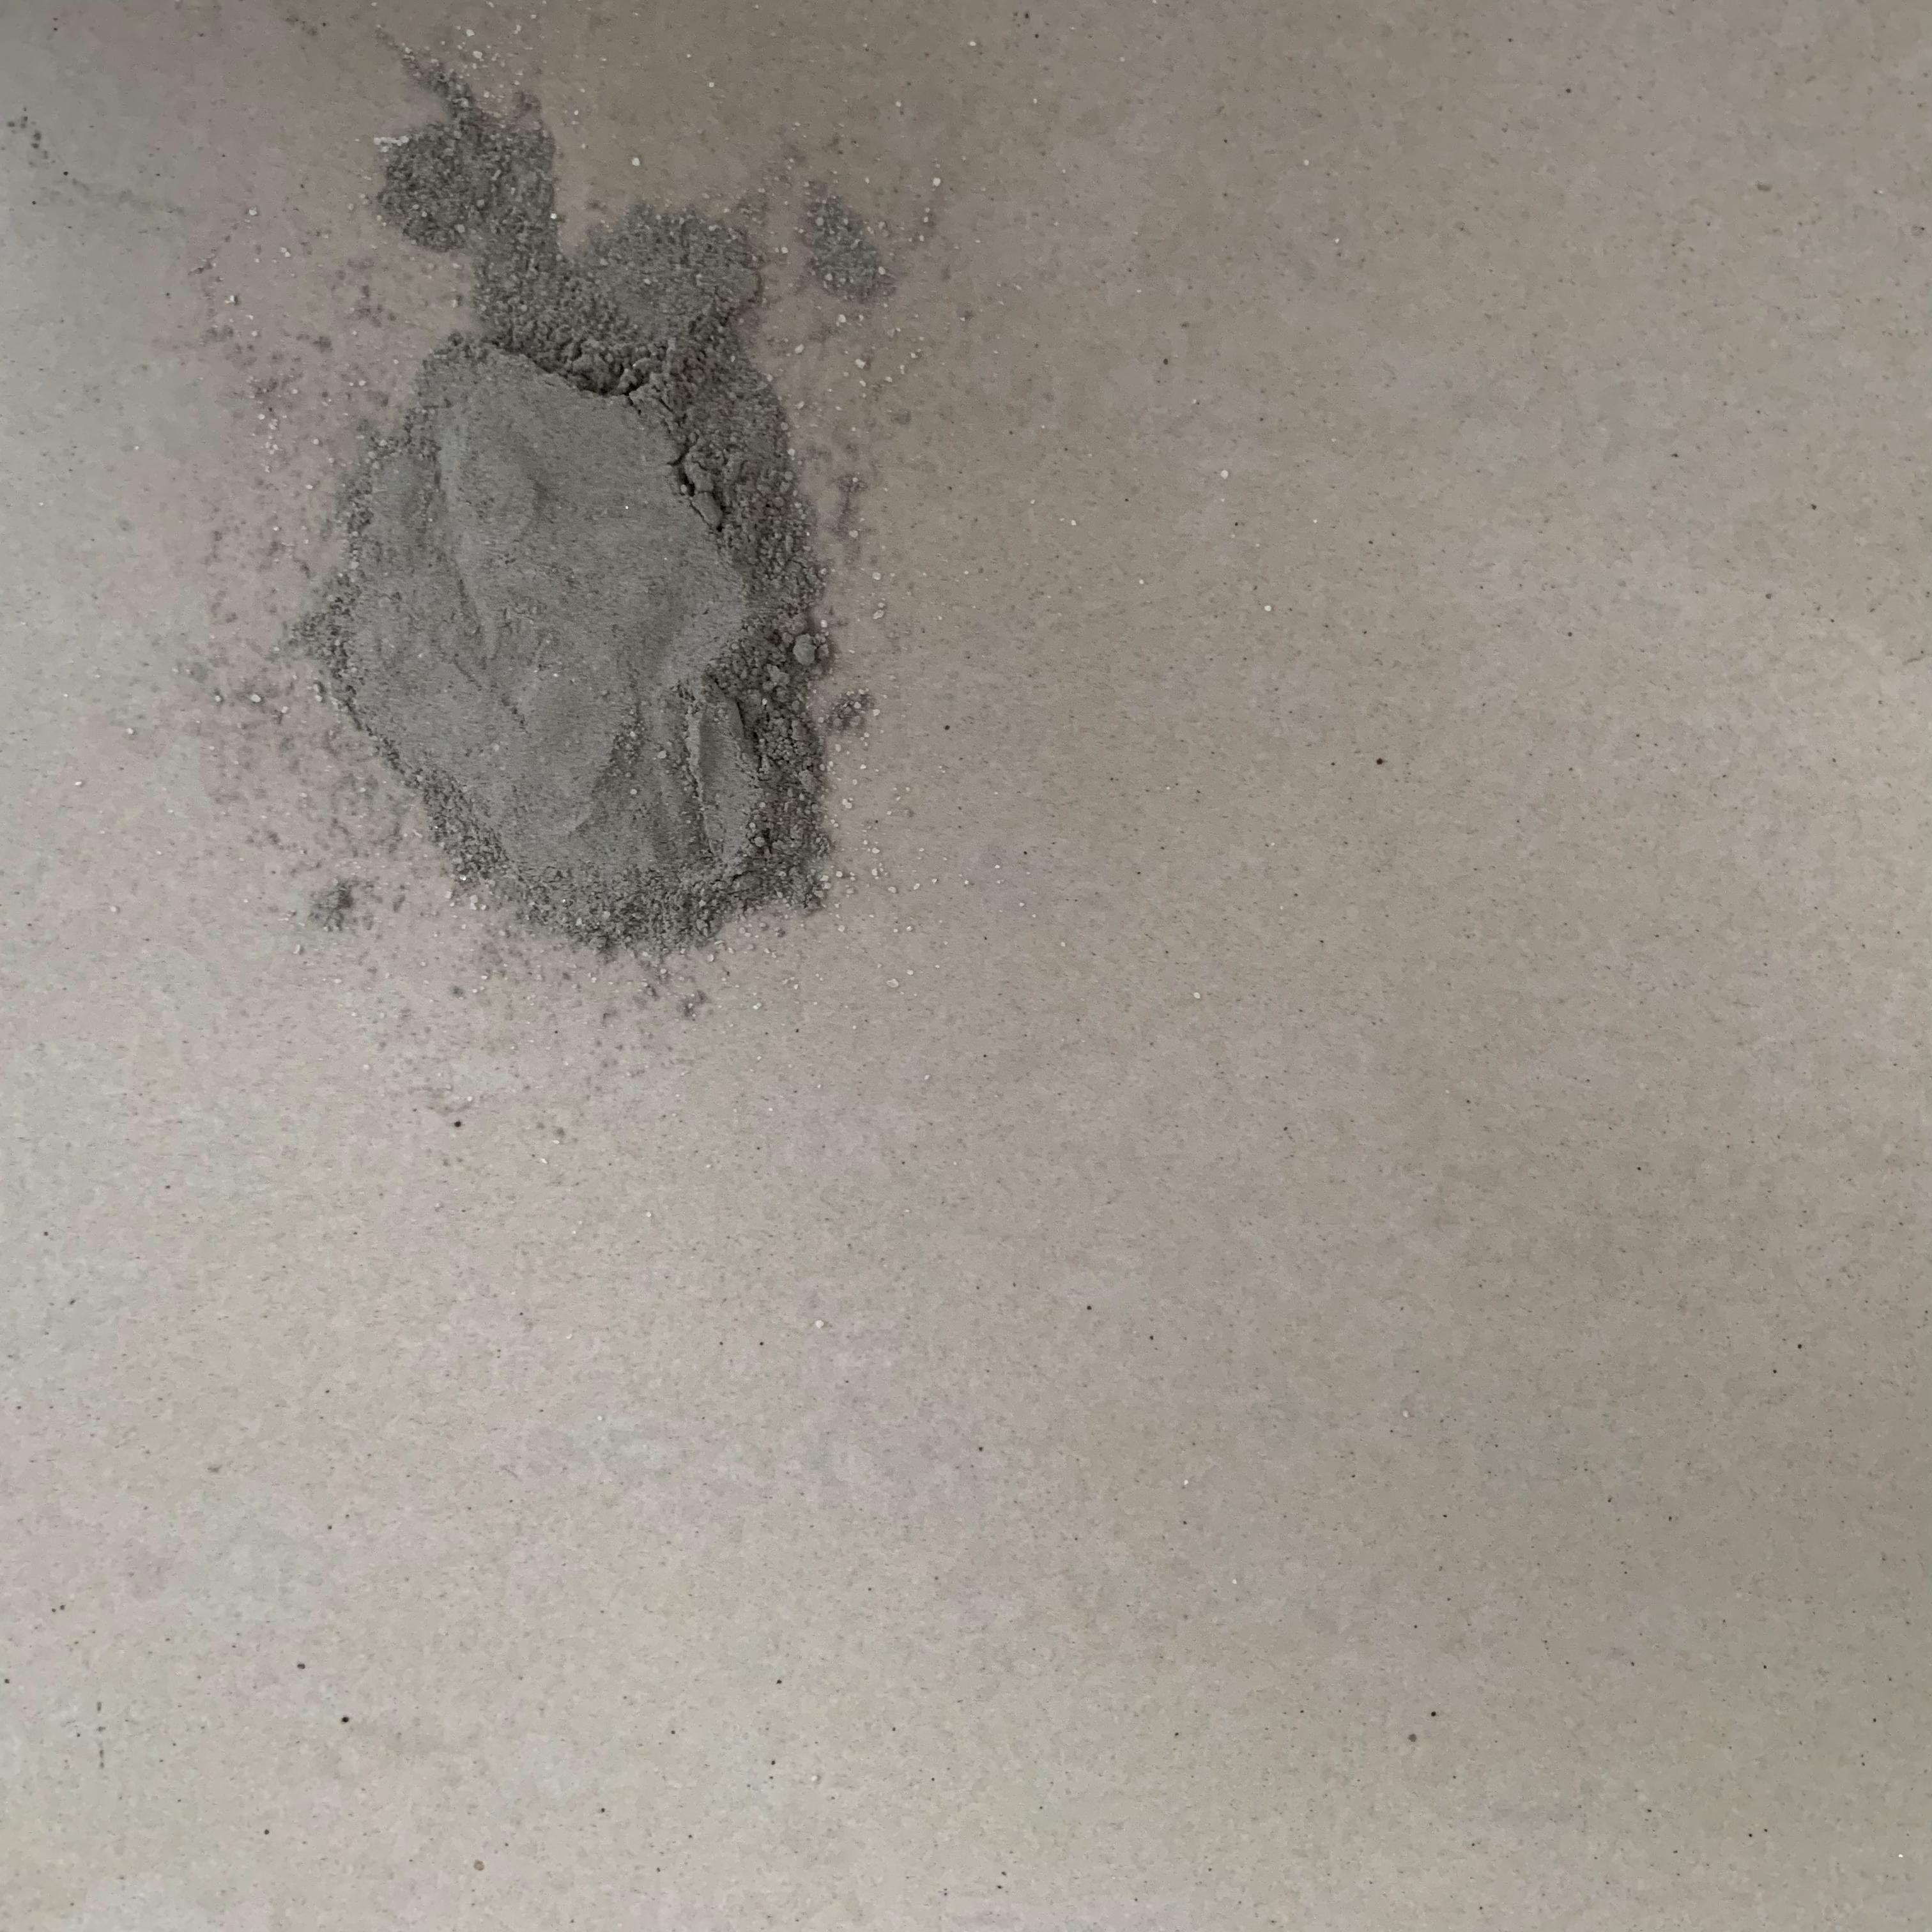ash pile: (180, 18, 943, 1125)
